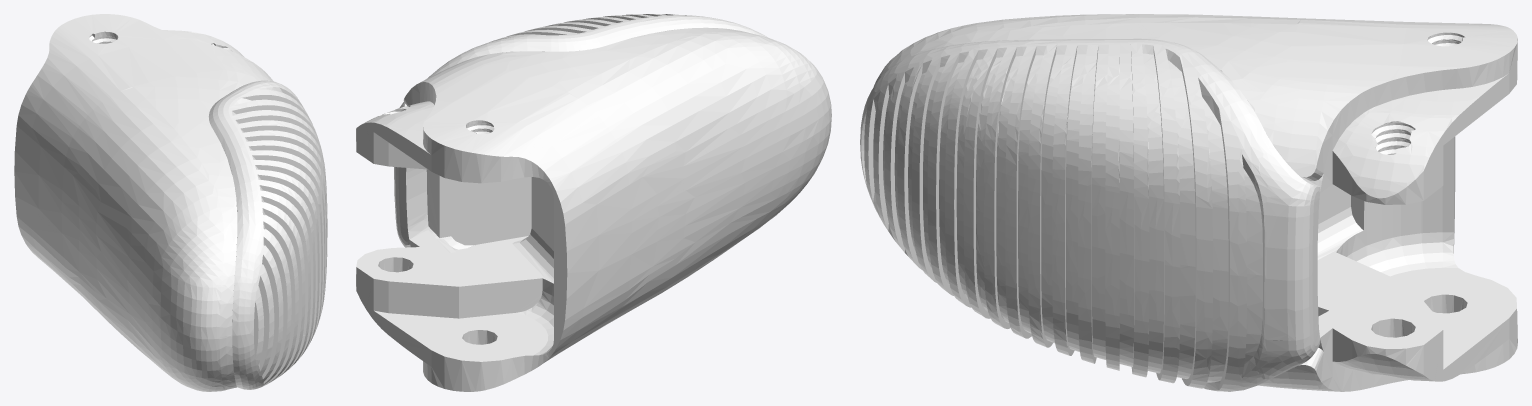
The model's file is lh_pinky_distal_vis.obj.
The picture shows the model from 3 angles, left to right: view 1: azimuth 30°, elevation 25°; view 2: azimuth 150°, elevation 25°; view 3: azimuth 270°, elevation 25°; orthographic projection. The views are drawn at different scales.
Visible parts, largest first — view 1: lh_pinky_distal; view 2: lh_pinky_distal; view 3: lh_pinky_distal.
Part boxes in pixels (box(x1,y1,x2,y2)): lh_pinky_distal: box(14, 14, 327, 391); lh_pinky_distal: box(356, 14, 831, 391); lh_pinky_distal: box(860, 14, 1517, 391).
Size of the model in its own units: 0.0182 by 0.0157 by 0.0295.
1 material, 1 textured.
